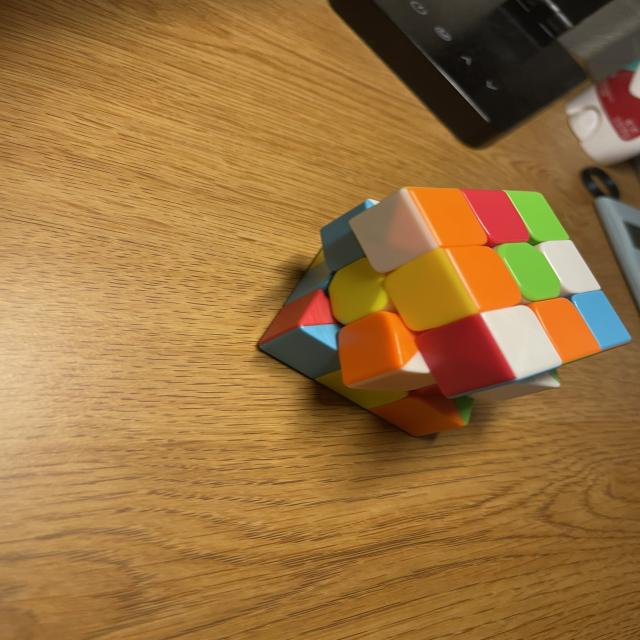Rubiks Cube: (258, 187, 633, 437)
